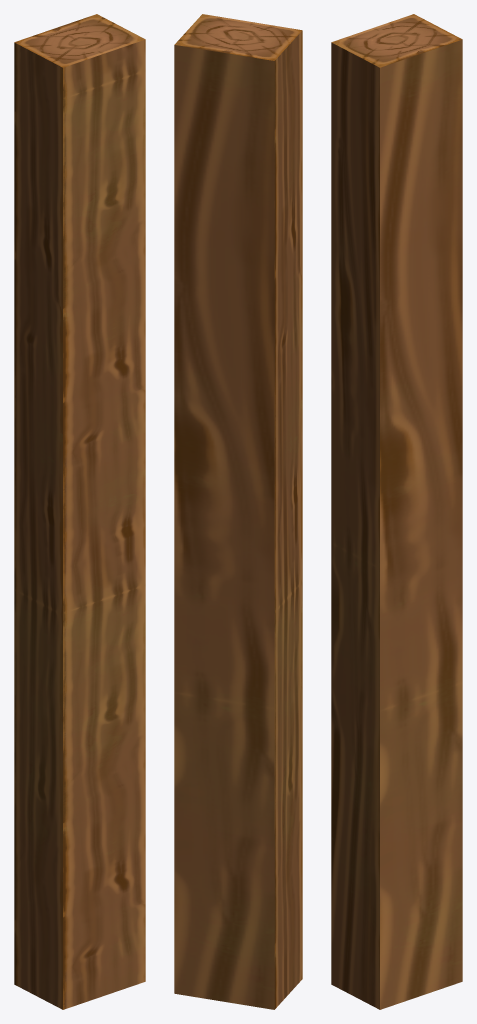
3 renders of one model, left to right at view 1: azimuth 90°, elevation 25°; view 2: azimuth 210°, elevation 25°; view 3: azimuth 270°, elevation 25°, orthographic.
Visible parts, largest first — view 1: Cube.620; view 2: Cube.620; view 3: Cube.620.
Boxes of the visible parts, bbox=[...] form: Cube.620: bbox=[14, 14, 145, 1009]; Cube.620: bbox=[174, 14, 302, 1009]; Cube.620: bbox=[331, 14, 462, 1009].
Size of the model in its own units: 117 by 953 by 121.
1 material, 1 textured.
